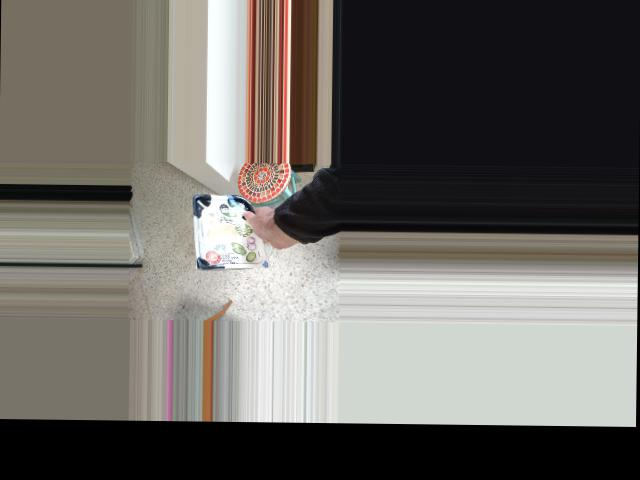cheese: (195, 184, 292, 280)
